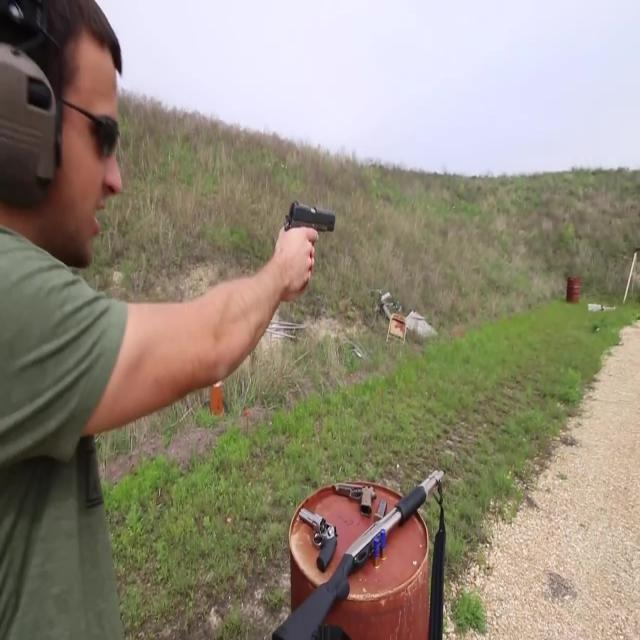Weapon: (211, 438, 509, 640), (247, 154, 371, 279)
